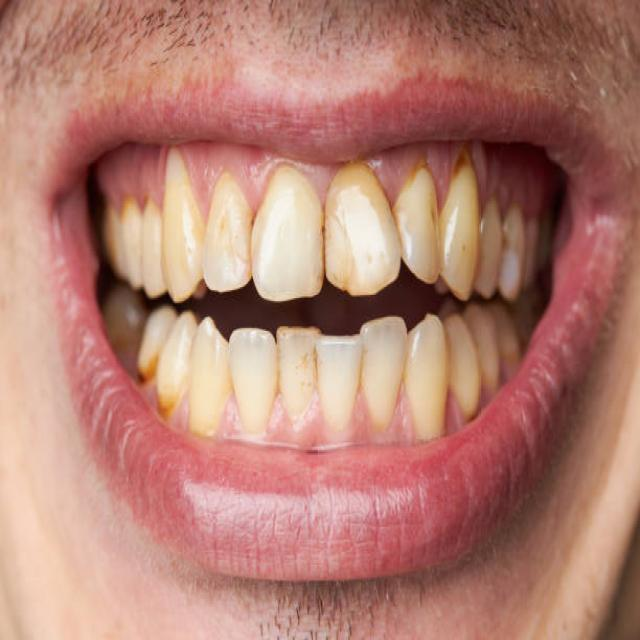caries: (451, 134, 483, 182)
